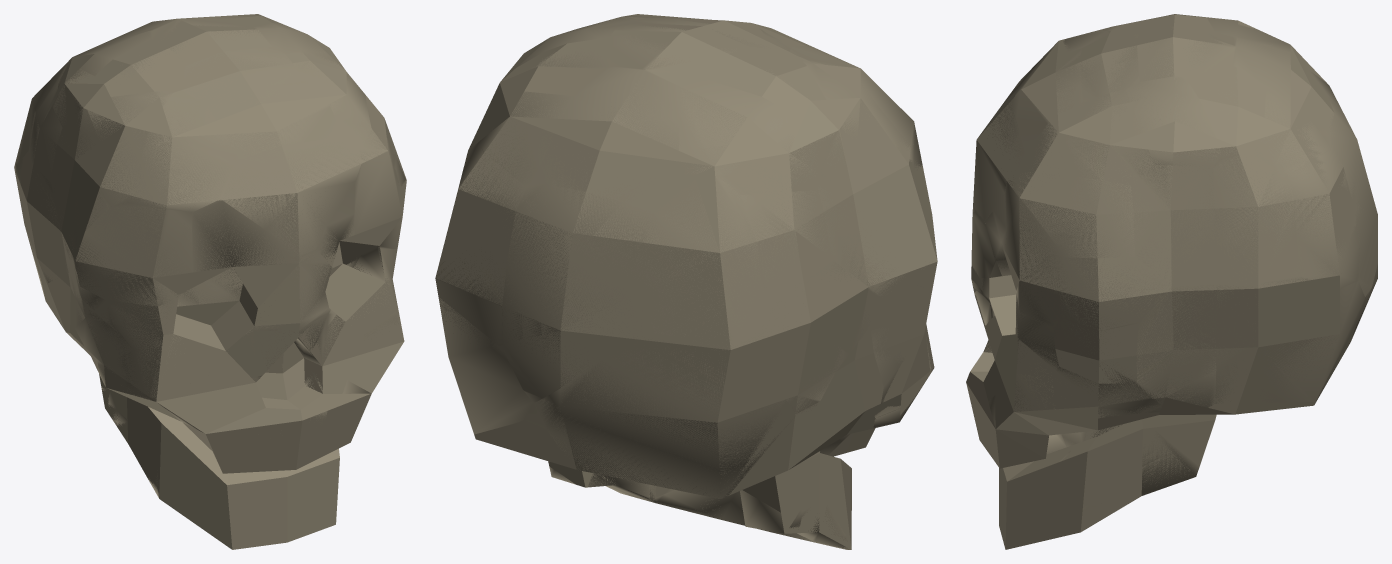
Rendered from skull.glb.
3 renders of one model, left to right at view 1: azimuth 30°, elevation 25°; view 2: azimuth 150°, elevation 25°; view 3: azimuth 270°, elevation 25°, orthographic. The views are drawn at different scales.
Parts seen in each view (by area): view 1: origin, Skull_cell.015, Skull_cell.048, Skull_cell.051, Skull_cell.056, Skull_cell.020, Skull_cell.069, Skull_cell.026, Skull_cell.012, Skull_cell.006, Skull_cell.047, Skull_cell.014 (+15 smaller); view 2: origin, Skull_cell.074, Skull_cell.032, Skull_cell.043, Skull_cell.013, Skull_cell.010, Skull_cell.004, Skull_cell.078, Skull_cell.044, Skull_cell.030, Skull_cell.069, Skull_cell.033 (+13 smaller); view 3: origin, Skull_cell.010, Skull_cell.078, Skull_cell.055, Skull_cell.062, Skull_cell.064, Skull_cell.065, Skull_cell.036, Skull_cell.020, Skull_cell.032, Skull_cell.026, Skull_cell.047 (+16 smaller).
Boxes of the visible parts, <box> form: origin: <box>14,16,406,549</box>; Skull_cell.015: <box>128,91,236,212</box>; Skull_cell.048: <box>222,137,361,255</box>; Skull_cell.051: <box>72,203,192,306</box>; Skull_cell.056: <box>192,199,301,285</box>; Skull_cell.020: <box>354,148,402,249</box>; Skull_cell.069: <box>87,91,172,207</box>; Skull_cell.026: <box>219,81,343,159</box>; Skull_cell.012: <box>70,274,147,395</box>; Skull_cell.006: <box>107,299,184,397</box>; Skull_cell.047: <box>293,51,371,148</box>; Skull_cell.014: <box>251,249,332,330</box>; origin: <box>435,14,937,549</box>; Skull_cell.074: <box>534,336,792,498</box>; Skull_cell.032: <box>502,181,651,402</box>; Skull_cell.043: <box>679,78,790,180</box>; Skull_cell.013: <box>559,66,680,157</box>; Skull_cell.010: <box>438,297,532,434</box>; Skull_cell.004: <box>641,175,761,340</box>; Skull_cell.078: <box>436,147,525,349</box>; Skull_cell.044: <box>481,91,572,186</box>; Skull_cell.030: <box>740,190,829,291</box>; Skull_cell.069: <box>797,56,913,168</box>; Skull_cell.033: <box>609,23,734,82</box>; origin: <box>966,14,1373,549</box>; Skull_cell.010: <box>1215,276,1364,403</box>; Skull_cell.078: <box>1288,149,1359,288</box>; Skull_cell.055: <box>1125,76,1221,166</box>; Skull_cell.062: <box>1019,172,1134,258</box>; Skull_cell.064: <box>1213,156,1299,283</box>; Skull_cell.065: <box>1134,165,1215,284</box>; Skull_cell.036: <box>1136,283,1216,407</box>; Skull_cell.020: <box>1004,177,1064,326</box>; Skull_cell.032: <box>1327,94,1377,301</box>; Skull_cell.026: <box>1011,50,1082,151</box>; Skull_cell.047: <box>1032,89,1153,180</box>.
Size of the model in its own units: 4.82 by 6.28 by 4.79.
